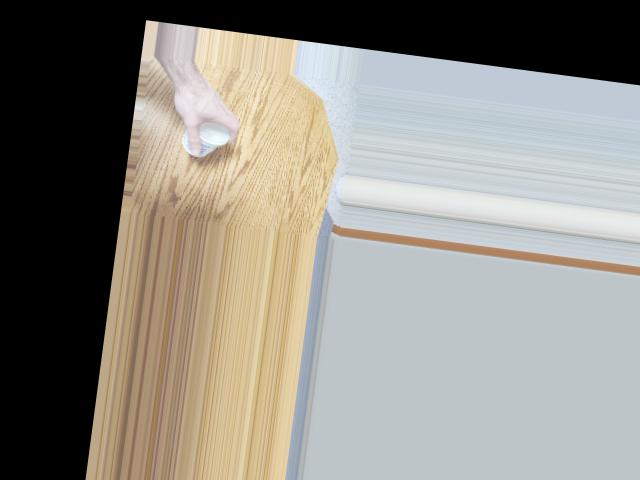cotage: (177, 119, 239, 162)
